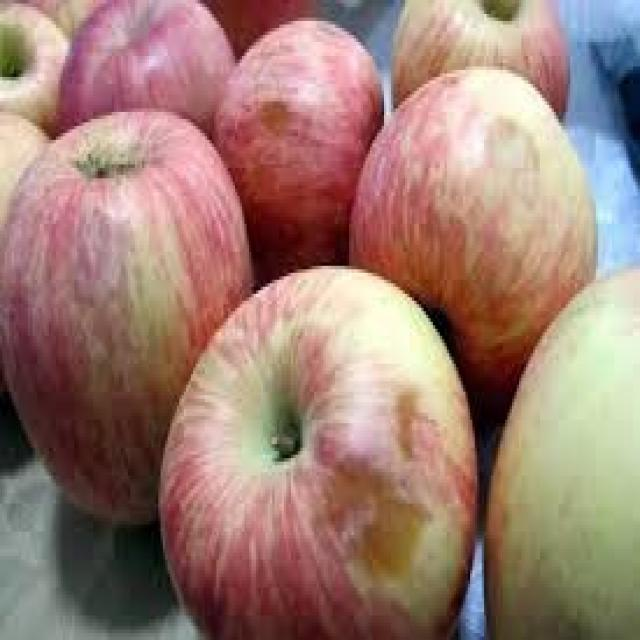organic waste: (156, 259, 477, 636), (0, 102, 249, 521), (347, 63, 596, 416), (479, 263, 638, 636), (210, 14, 382, 280), (54, 0, 235, 154), (387, 0, 566, 119), (0, 105, 58, 255), (0, 0, 67, 126), (203, 0, 314, 56)
